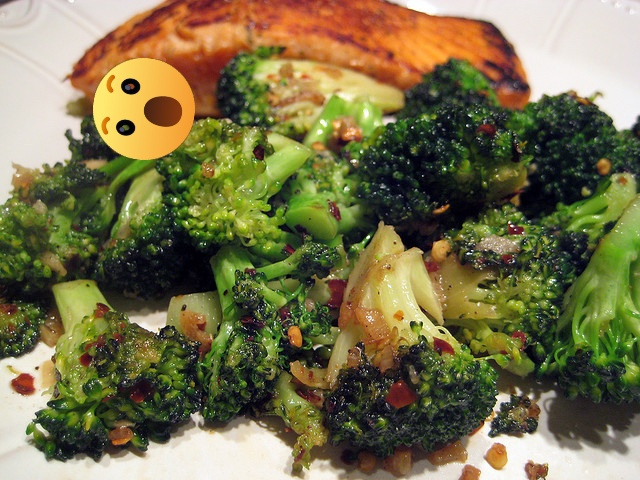wow: (93, 58, 195, 160)
